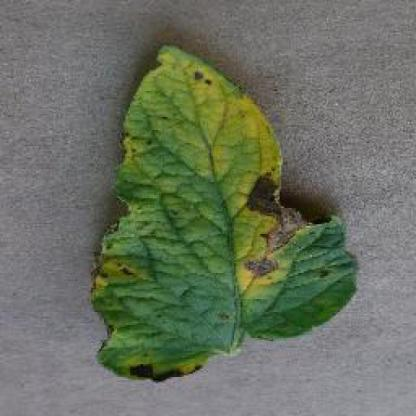Tomato_Blight: (93, 45, 360, 381)
